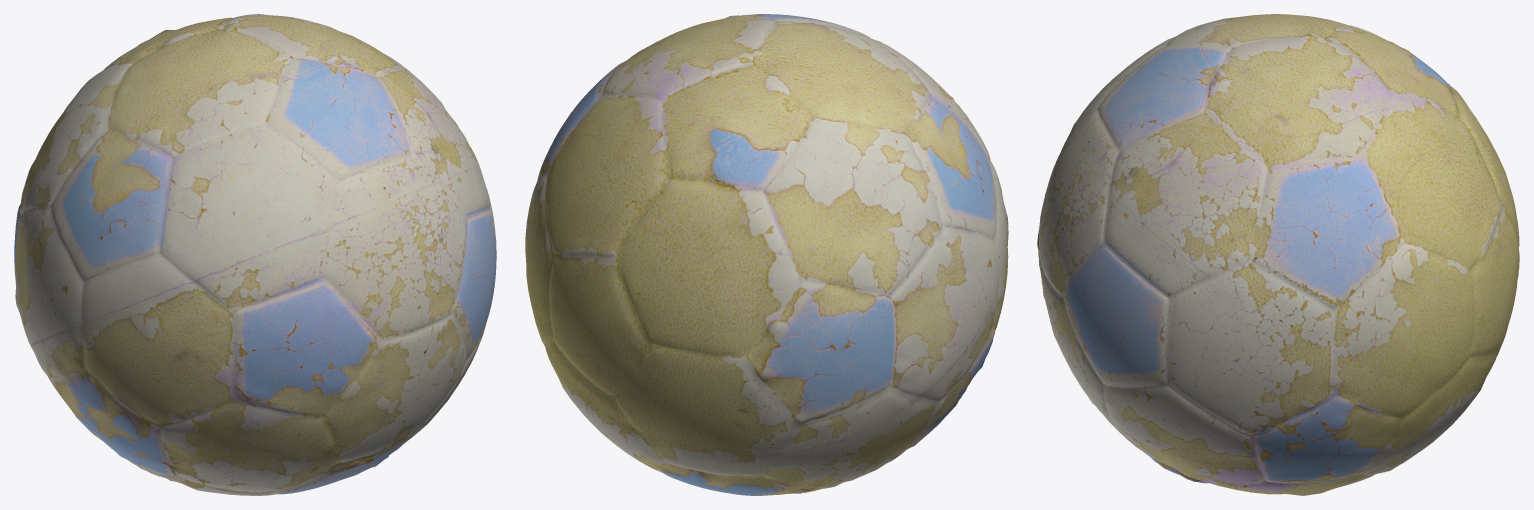
The model's file is ball_old.glb.
3 views of the same model, side by side, from view 1: azimuth 30°, elevation 25°; view 2: azimuth 150°, elevation 25°; view 3: azimuth 270°, elevation 25° (orthographic).
Parts seen in each view (by area): view 1: ball_old-LP_2; view 2: ball_old-LP_2; view 3: ball_old-LP_2.
Boxes of the visible parts, box(x1,y1,x2,y2) form: ball_old-LP_2: box(14, 14, 496, 495); ball_old-LP_2: box(525, 14, 1008, 495); ball_old-LP_2: box(1037, 14, 1519, 495).
Size of the model in its own units: 1.69 by 1.68 by 1.69.
Materials: 1 (1 with a texture image).
